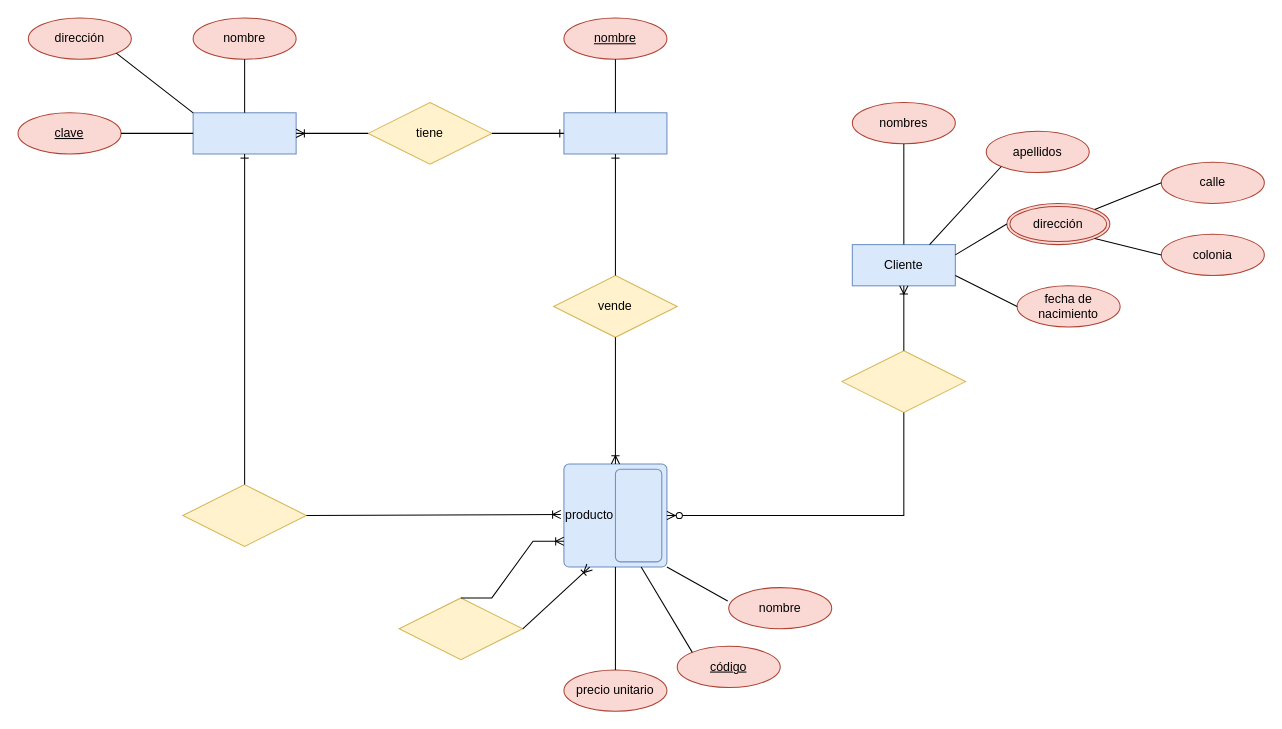
This 1282x729 diagram has some shape labels left out. The box of each missing label's shape, as (x1, y1, x2, y2) in pixels:
compra: (841, 350, 966, 413)
contiene: (398, 597, 523, 660)
Empresa: (563, 112, 667, 154)
Proveedor: (192, 112, 296, 154)
surte: (182, 484, 306, 546)
tipo: (614, 468, 662, 562)
